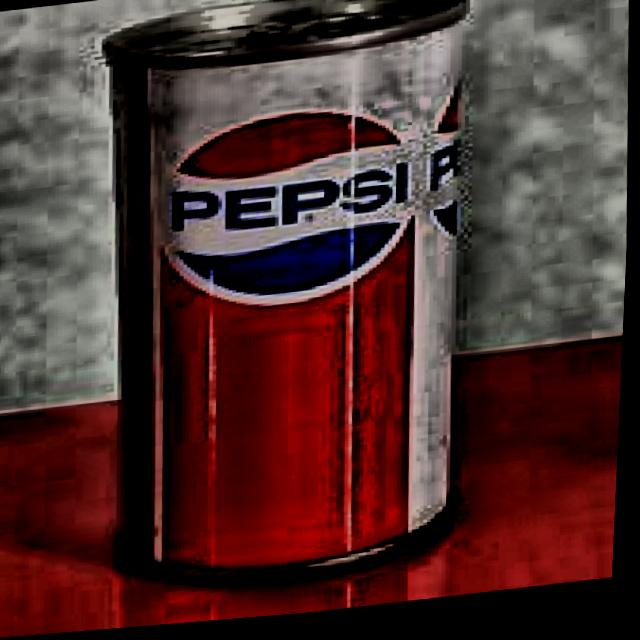Cans: (72, 0, 526, 625)
